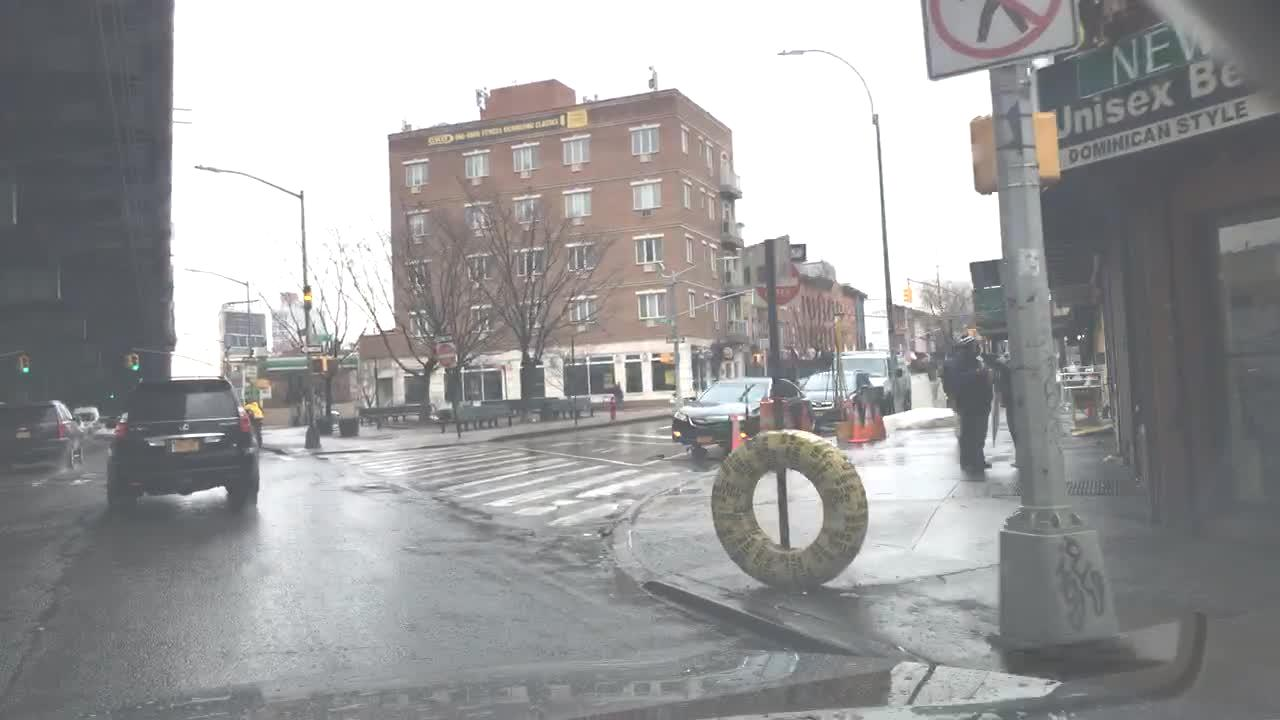lexus: (176, 421, 190, 436)
